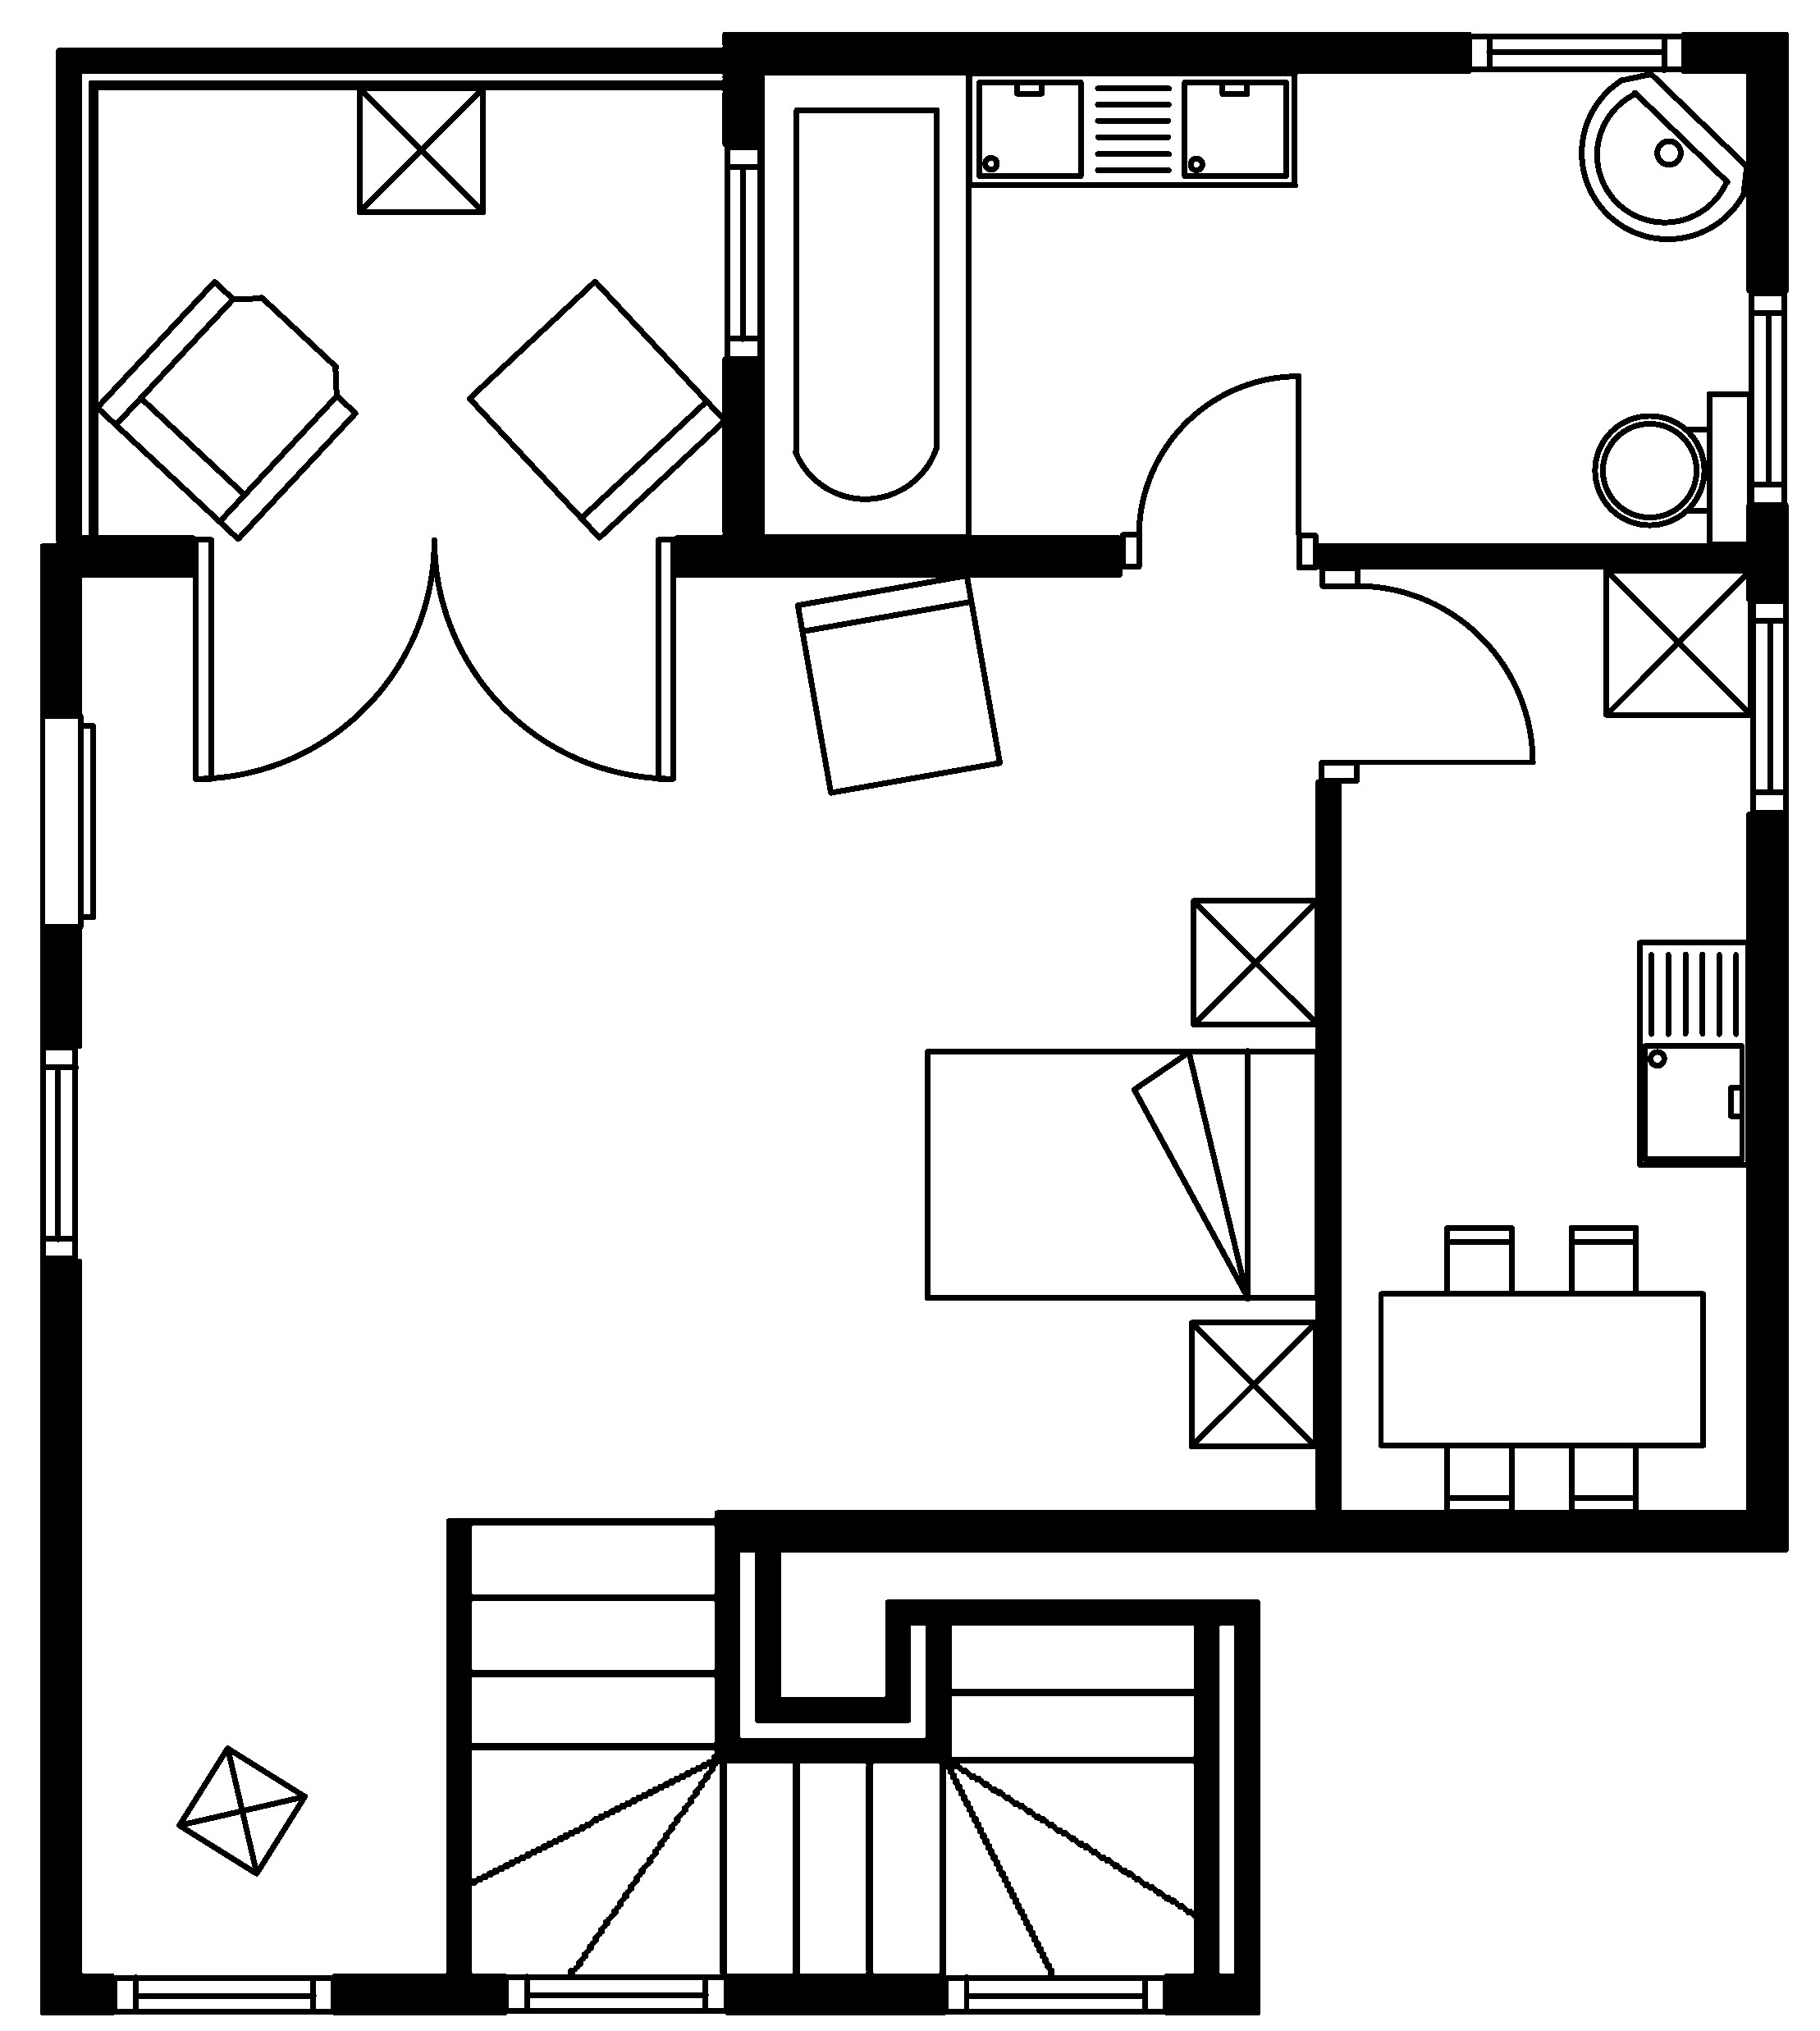armchair: (93, 278, 358, 543)
bed: (922, 1047, 1321, 1302)
coffee_table: (1602, 566, 1753, 719), (1186, 1318, 1319, 1449), (174, 1745, 307, 1876), (1189, 896, 1321, 1028), (355, 84, 487, 214)
dining_table: (1376, 1223, 1706, 1516)
large_sink: (1592, 388, 1753, 548)
sink: (1634, 938, 1750, 1168)
small_sink: (1578, 70, 1750, 241)
small_sofa: (466, 276, 727, 541), (794, 571, 1003, 796)
tub: (757, 69, 971, 539)
twin_sink: (964, 69, 1298, 188)
